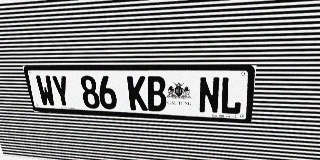6: (96, 76, 118, 109)
8: (79, 75, 100, 109)
B: (146, 76, 167, 112)
K: (127, 76, 148, 111)
L: (219, 77, 243, 115)
N: (198, 76, 220, 114)
W: (35, 75, 56, 107)
Y: (50, 75, 72, 107)
